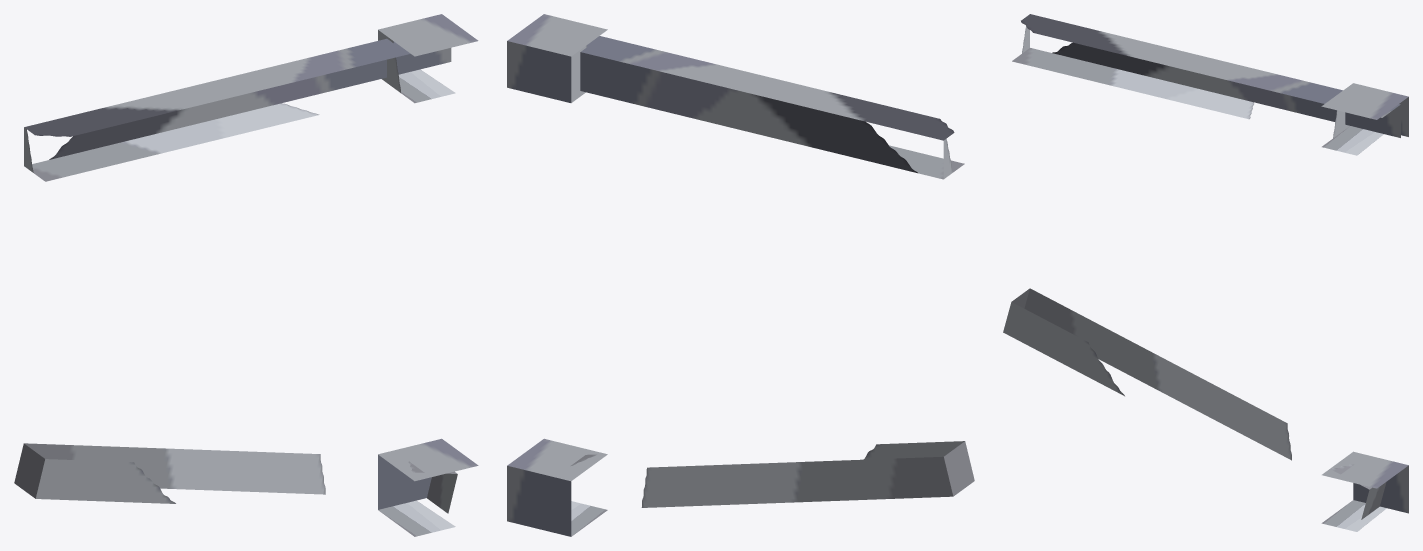
File: overhead_truss_single_ad.obj
3 views of the same model, side by side, from view 1: azimuth 30°, elevation 25°; view 2: azimuth 150°, elevation 25°; view 3: azimuth 330°, elevation 25° (orthographic). The views are drawn at different scales.
Parts seen in each view (by area): view 1: slide_pole; view 2: slide_pole; view 3: slide_pole.
Boxes of the visible parts, left/top/right/bottom form: slide_pole: left=14, top=14, right=478, bottom=536; slide_pole: left=507, top=14, right=974, bottom=536; slide_pole: left=1003, top=14, right=1408, bottom=531.
Size of the model in its own units: 1.28 by 1.34 by 0.1869.
